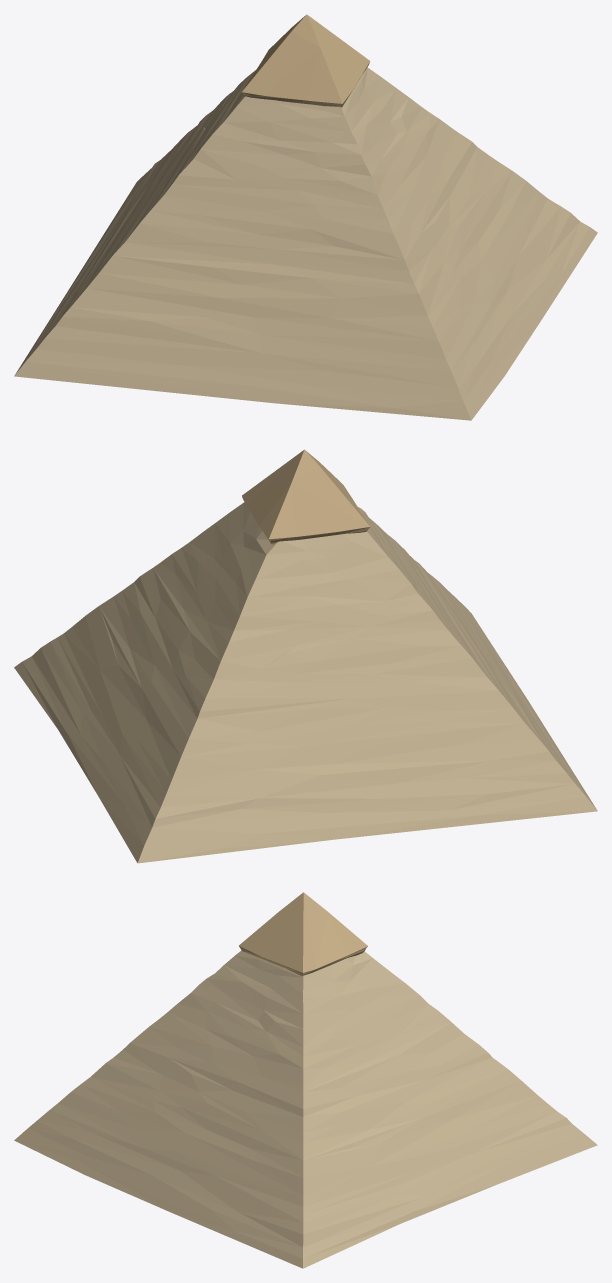
The model's file is upyr.glb.
The picture shows the model from 3 angles, top to bottom: view 1: azimuth 30°, elevation 25°; view 2: azimuth 150°, elevation 25°; view 3: azimuth 270°, elevation 25°; orthographic projection. The views are drawn at different scales.
Parts seen in each view (by area): view 1: Pyramid, Cone; view 2: Pyramid, Cone; view 3: Pyramid, Cone.
Boxes of the visible parts, x1,y1,x2,y2 form: Pyramid: (14,67,597,420); Cone: (242,14,369,107); Pyramid: (14,502,597,863); Cone: (242,449,369,544); Pyramid: (14,950,597,1268); Cone: (239,892,367,976).
Bounding box in the file's own units: 305 × 145 × 302.
